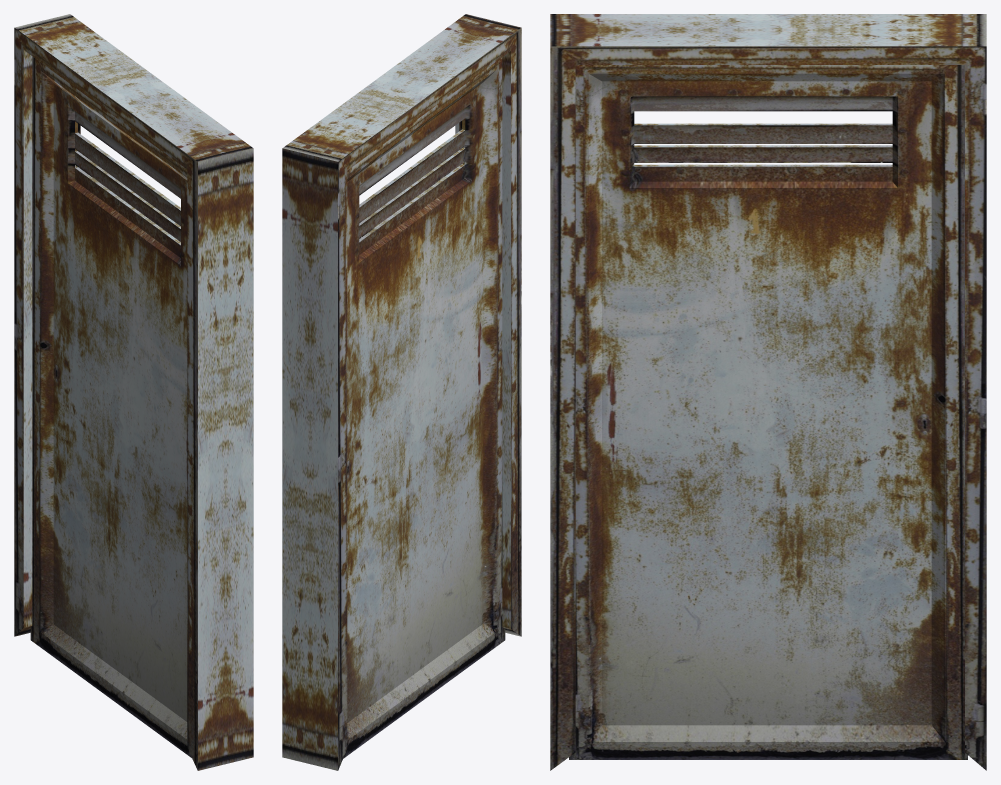
File: door_04.FBX
The picture shows the model from 3 angles, left to right: view 1: azimuth 30°, elevation 25°; view 2: azimuth 150°, elevation 25°; view 3: azimuth 270°, elevation 25°; orthographic projection. The views are drawn at different scales.
Visible parts, largest first — view 1: Plane005, Plane006; view 2: Plane005, Plane006; view 3: Plane005, Plane006.
Part boxes in pixels (x1=…): Plane005: x1=30, y1=56, x2=191, y2=757; Plane006: x1=14, y1=14, x2=253, y2=770; Plane005: x1=343, y1=57, x2=505, y2=758; Plane006: x1=282, y1=14, x2=521, y2=770; Plane005: x1=569, y1=65, x2=967, y2=759; Plane006: x1=550, y1=14, x2=986, y2=770.
Size of the model in its own units: 7.53 by 78.74 by 42.97.
